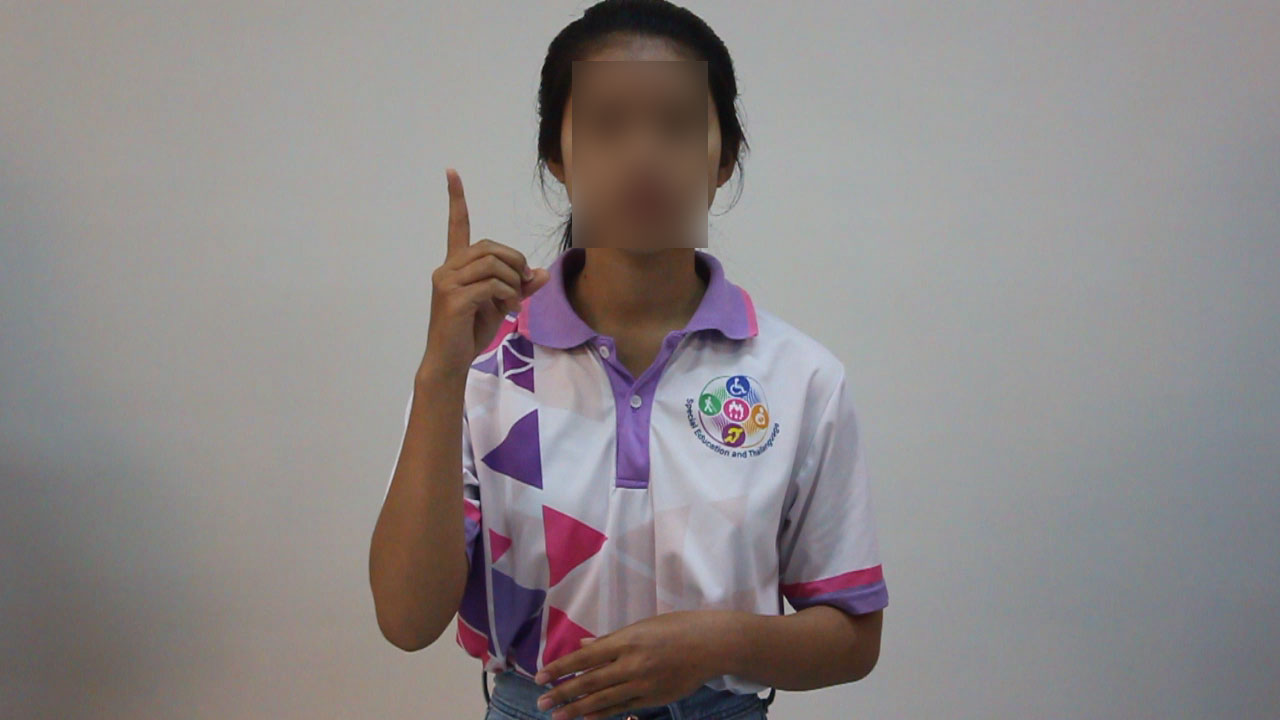dor: (415, 163, 558, 378)
